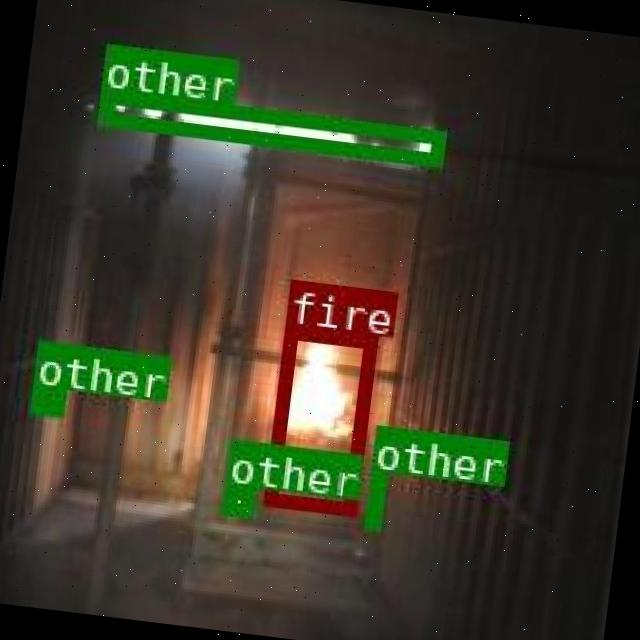fire: (262, 323, 374, 512)
